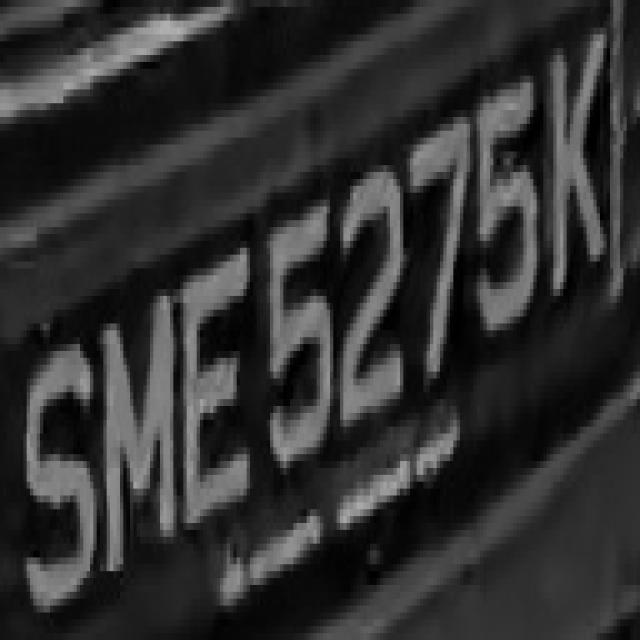2: (320, 165, 410, 447)
5: (256, 186, 336, 488), (463, 83, 550, 351)
7: (393, 117, 470, 385)
E: (177, 220, 260, 551)
K: (543, 14, 617, 296)
M: (100, 268, 177, 585)
S: (17, 323, 96, 620)
